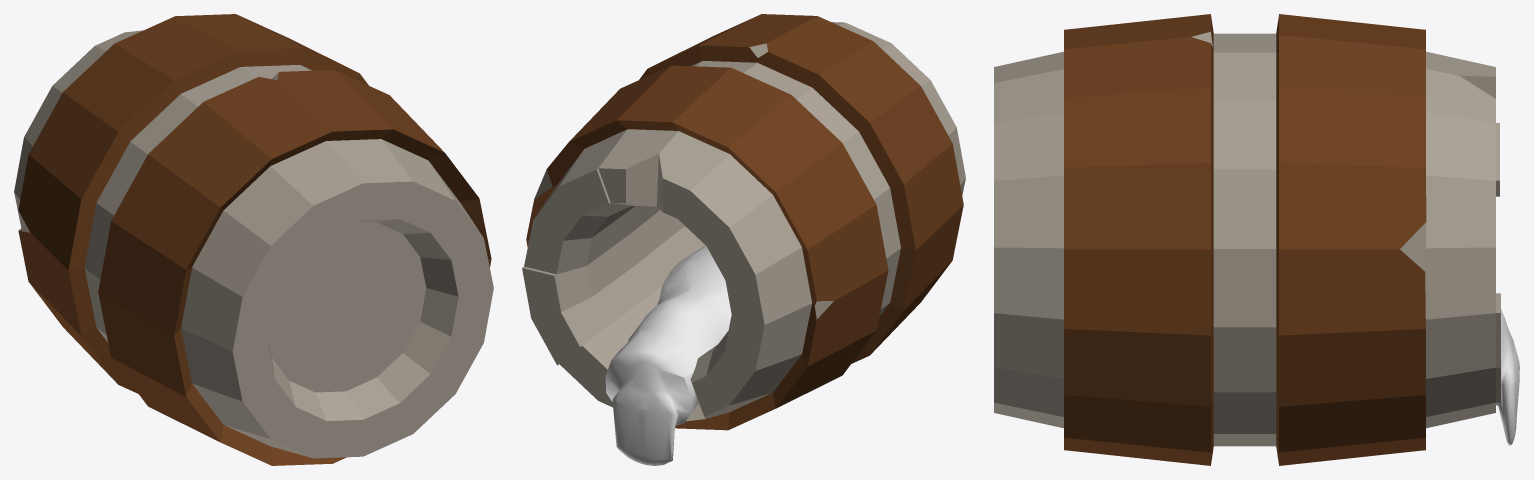
File: barrel nakatumba.fbx
3 renders of one model, left to right at view 1: azimuth 30°, elevation 25°; view 2: azimuth 150°, elevation 25°; view 3: azimuth 270°, elevation 25°, orthographic. The views are drawn at different scales.
Visible parts, largest first — view 1: Cylinder; view 2: Cylinder; view 3: Cylinder.
Boxes of the visible parts, <box> form: Cylinder: <box>14,14,493,465</box>; Cylinder: <box>522,14,965,465</box>; Cylinder: <box>994,14,1519,465</box>.
Bounding box in the file's own units: 2.61 × 2.61 × 3.04.
